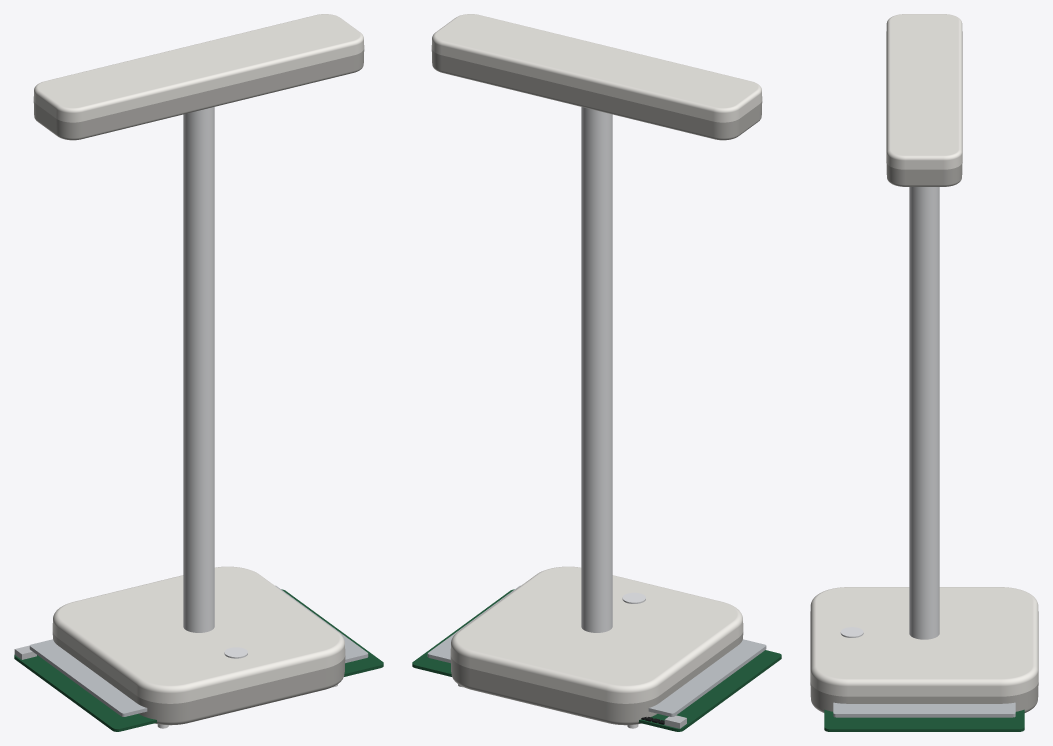
The model's file is anatomy_v0.glb.
3 views of the same model, side by side, from view 1: azimuth 30°, elevation 25°; view 2: azimuth 150°, elevation 25°; view 3: azimuth 270°, elevation 25° (orthographic). The views are drawn at different scales.
Visible parts, largest first — view 1: body.1, metal.1, body.2, accent.2, accent.1, pcb.1, battery.1; view 2: body.1, metal.1, body.2, accent.2, accent.1, pcb.1, battery.1; view 3: body.1, metal.1, body.2, pcb.1, battery.1, accent.1, accent.2.
Boxes of the visible parts, x1=… form: body.1: x1=52, y1=566, x2=345, y2=703; metal.1: x1=183, y1=107, x2=214, y2=632; body.2: x1=33, y1=14, x2=364, y2=122; accent.2: x1=33, y1=49, x2=364, y2=140; accent.1: x1=52, y1=632, x2=345, y2=725; pcb.1: x1=14, y1=589, x2=383, y2=731; battery.1: x1=29, y1=585, x2=368, y2=716; body.1: x1=450, y1=566, x2=743, y2=703; metal.1: x1=581, y1=107, x2=612, y2=632; body.2: x1=431, y1=14, x2=762, y2=122; accent.2: x1=431, y1=49, x2=762, y2=140; accent.1: x1=450, y1=632, x2=743, y2=725; pcb.1: x1=412, y1=589, x2=781, y2=731; battery.1: x1=427, y1=585, x2=766, y2=716; body.1: x1=810, y1=587, x2=1038, y2=696; metal.1: x1=909, y1=187, x2=939, y2=639; body.2: x1=886, y1=14, x2=962, y2=169; pcb.1: x1=824, y1=709, x2=1024, y2=731; battery.1: x1=833, y1=702, x2=1015, y2=717; accent.1: x1=810, y1=682, x2=1038, y2=712; accent.2: x1=886, y1=162, x2=962, y2=186.
Size of the model in its own units: 0.18 by 0.3424 by 0.12.
